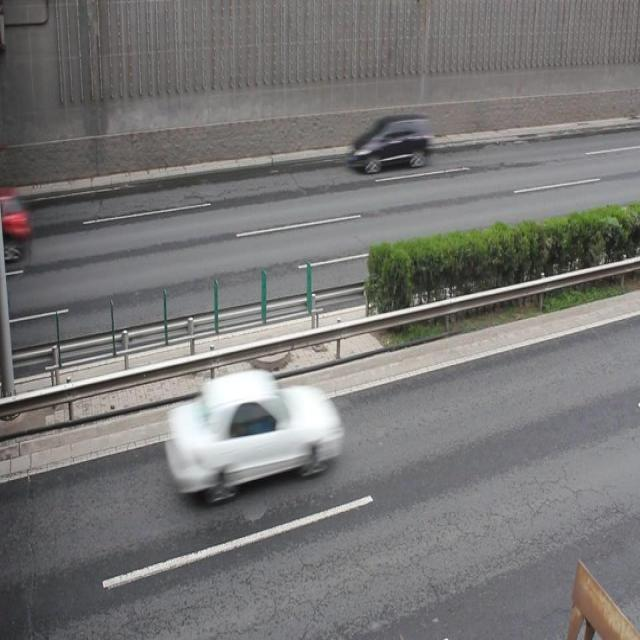car: (164, 368, 342, 501), (347, 112, 432, 172)
